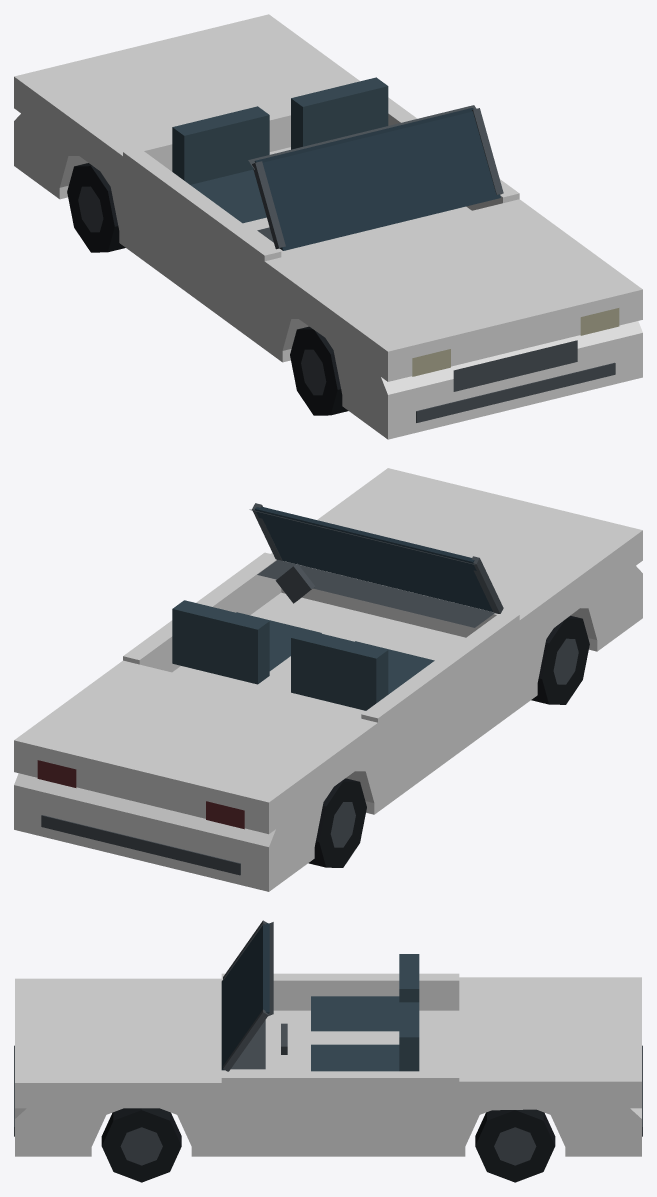
File: rental-convertible.glb
3 views of the same model, one above another, from view 1: azimuth 30°, elevation 25°; view 2: azimuth 150°, elevation 25°; view 3: azimuth 270°, elevation 25° (orthographic). The views are drawn at different scales.
Parts seen in each view (by area): view 1: vehicle_body; view 2: vehicle_body; view 3: vehicle_body.
Part boxes in pixels (x1=…): vehicle_body: x1=14, y1=14, x2=642, y2=439; vehicle_body: x1=14, y1=468, x2=642, y2=891; vehicle_body: x1=14, y1=920, x2=642, y2=1182.
Bounding box in the file's own units: 1.85 × 1.36 × 4.72.
